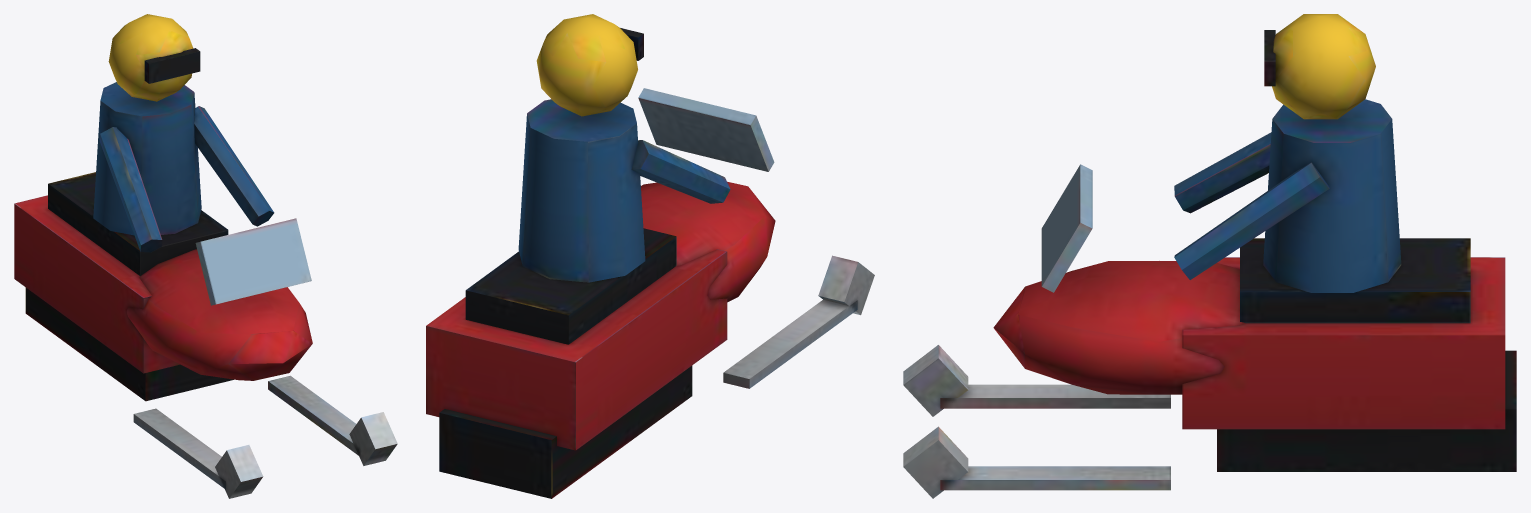
Rendered from moto_nieve.glb.
3 renders of one model, left to right at view 1: azimuth 30°, elevation 25°; view 2: azimuth 150°, elevation 25°; view 3: azimuth 270°, elevation 25°, orthographic. The views are drawn at different scales.
Parts seen in each view (by area): view 1: moto_nieve; view 2: moto_nieve; view 3: moto_nieve.
Boxes of the visible parts, bbox=[...] form: moto_nieve: bbox=[14, 14, 397, 498]; moto_nieve: bbox=[426, 14, 874, 498]; moto_nieve: bbox=[903, 14, 1516, 498].
Size of the model in its own units: 0.98 by 2.08 by 2.66.
Materials: 1 (1 with a texture image).
